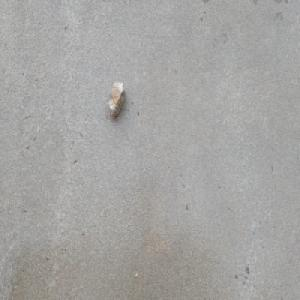Rock: (107, 80, 126, 119)
